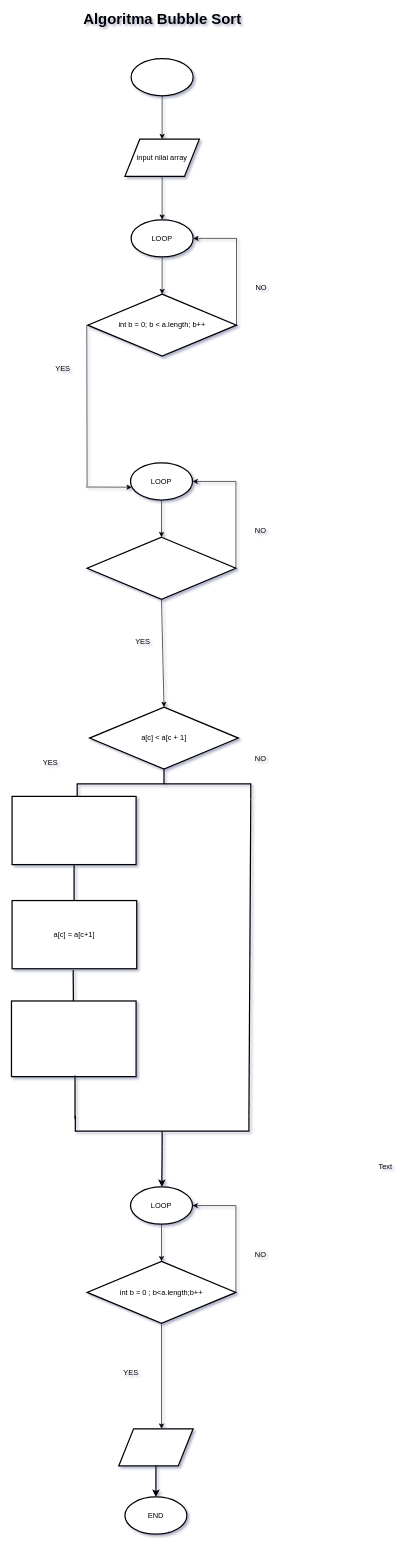
The diagram is 412 pixels wide and 1549 high, and some of its shapes have lost their labels. The shapes that lost their labels are listed below. From the top down, each one's centre as x and y in pixels, then its label:
pixel 161 77: START
pixel 161 568: int c = 0; c<a.length-1;c++
pixel 73 830: int x = a[c]
pixel 73 1038: a[c+1] = x
pixel 155 1447: (a[b] + " ")
